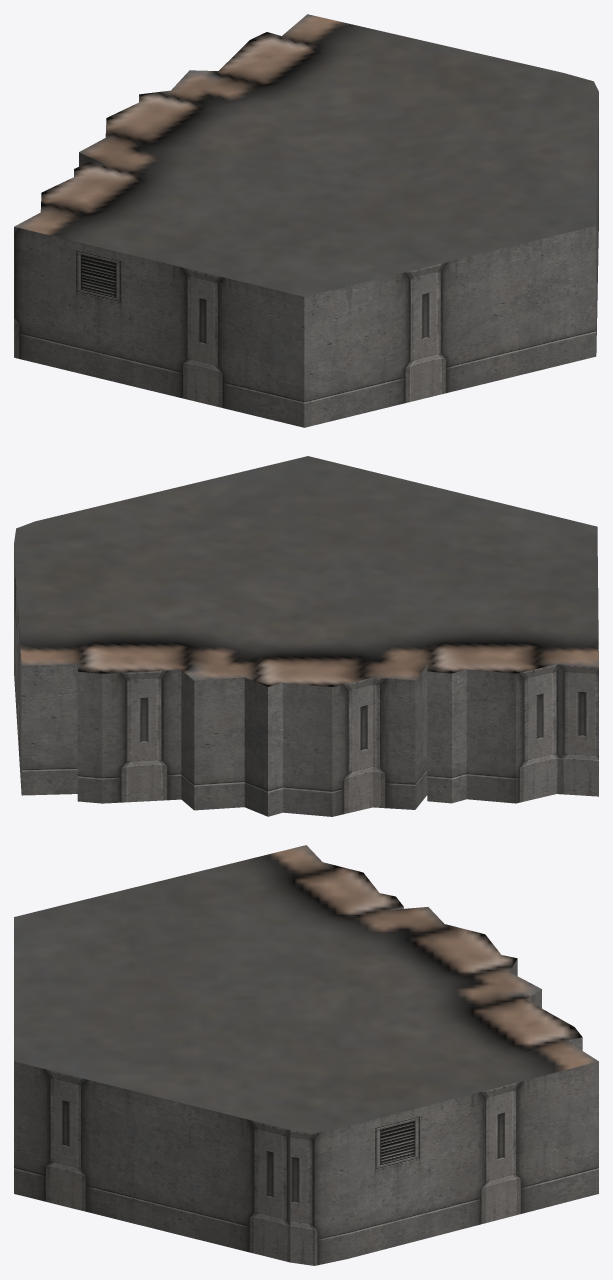
The model's file is building_hard_30.glb.
3 renders of one model, top to bottom at view 1: azimuth 30°, elevation 25°; view 2: azimuth 150°, elevation 25°; view 3: azimuth 270°, elevation 25°, orthographic. The views are drawn at different scales.
Parts seen in each view (by area): view 1: buildings/saxarba/building_hard/building_hard_30; view 2: buildings/saxarba/building_hard/building_hard_30; view 3: buildings/saxarba/building_hard/building_hard_30.
Boxes of the visible parts, x1=… form: buildings/saxarba/building_hard/building_hard_30: x1=14, y1=14, x2=598, y2=427; buildings/saxarba/building_hard/building_hard_30: x1=14, y1=456, x2=598, y2=816; buildings/saxarba/building_hard/building_hard_30: x1=14, y1=845, x2=598, y2=1265.
Size of the model in its own units: 84 by 18 by 72.
